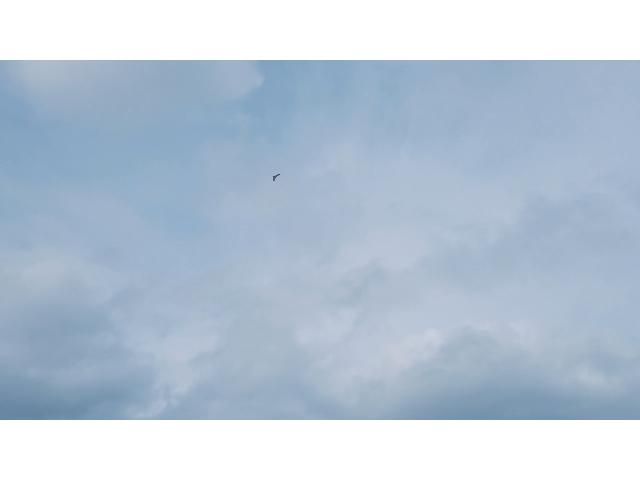Anti-Drone: (270, 170, 282, 186)
